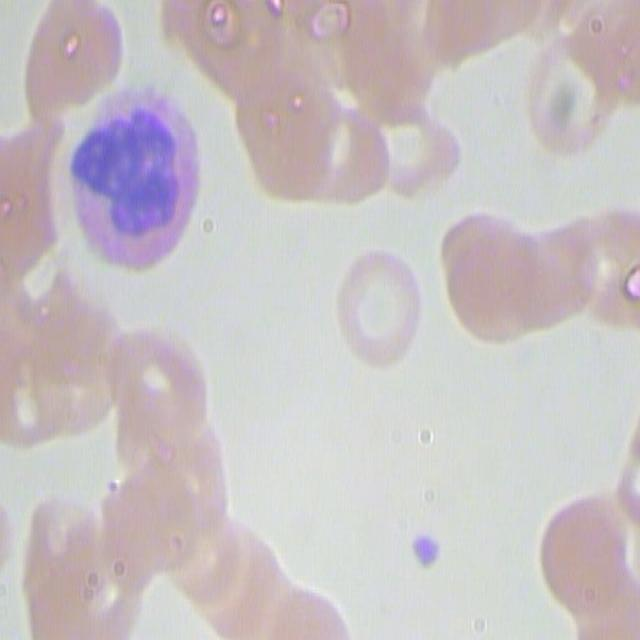RBC: (139, 476, 333, 640), (18, 483, 149, 639), (538, 203, 640, 402), (117, 332, 220, 510), (438, 204, 545, 350), (311, 0, 435, 122), (10, 296, 104, 451), (541, 492, 638, 637), (516, 31, 619, 158), (24, 0, 126, 126), (10, 141, 72, 346), (328, 240, 423, 368), (364, 100, 462, 203), (300, 98, 388, 212)
WBC: (66, 78, 210, 291)
platelets: (408, 528, 444, 572)
